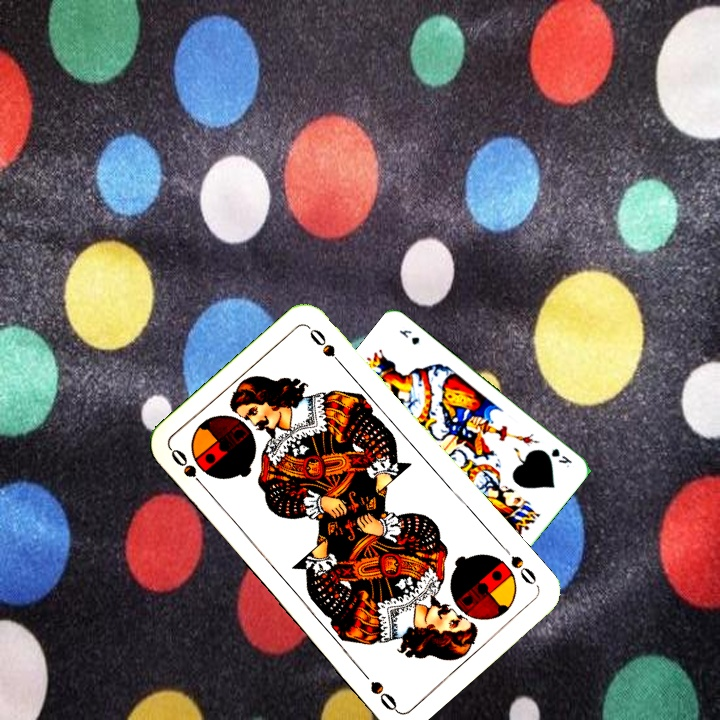GK: (547, 444, 574, 470)
SO: (166, 445, 211, 494), (497, 541, 541, 589)
